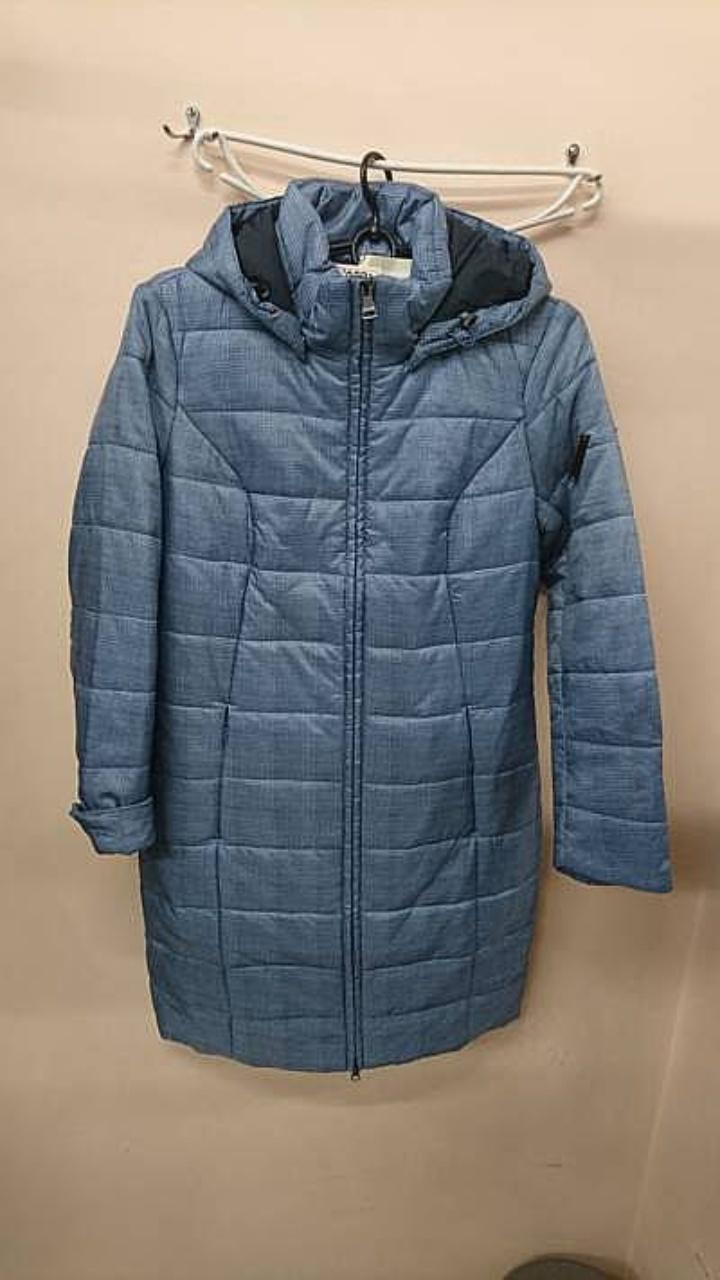Coat: (68, 177, 671, 1077)
